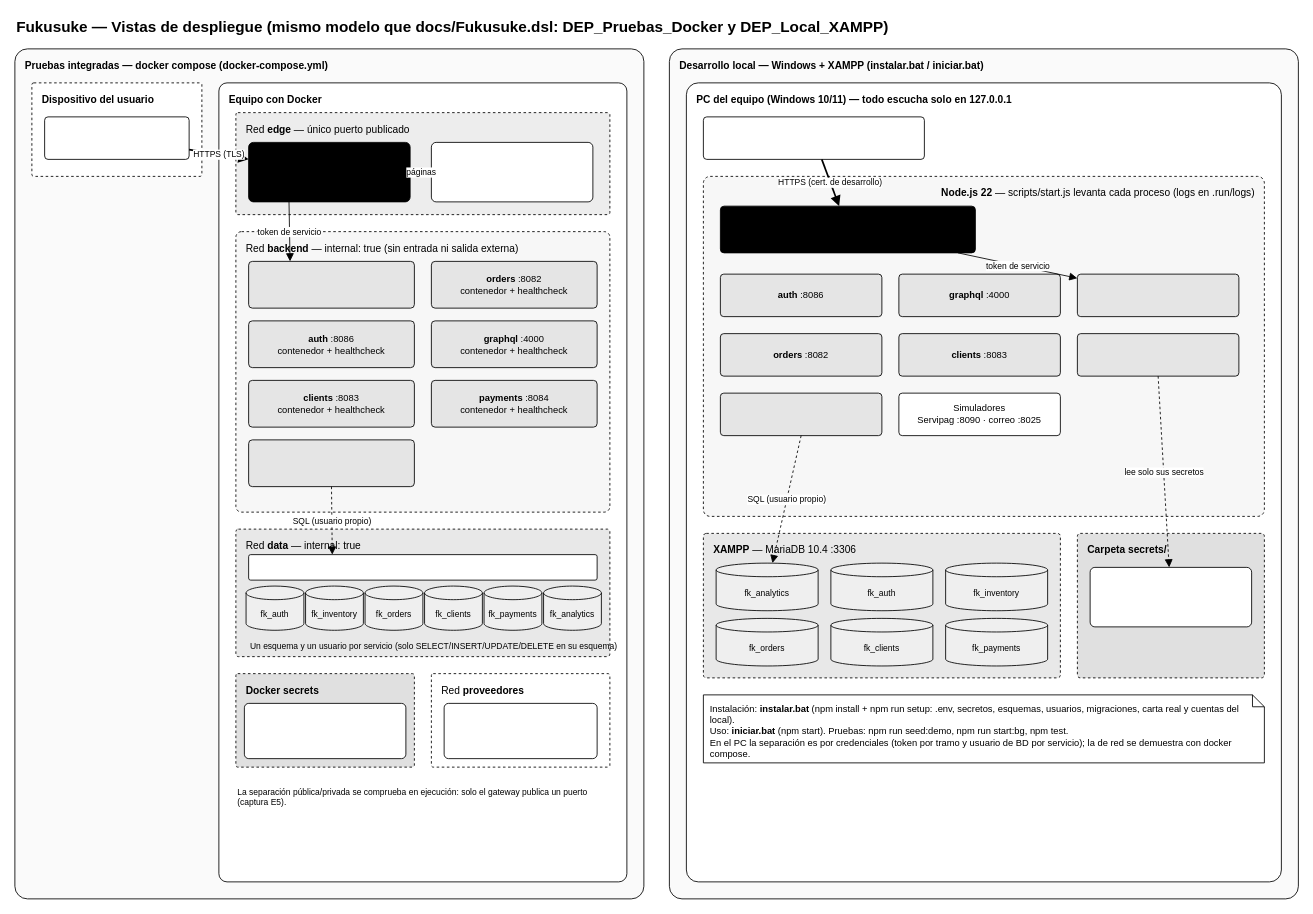
Some shapes in this 1313 by 914 pixel diagram are drawn without their labels. The shapes that lost their labels are listed below. From the top down, each one's centre as x and y in pixels, then its label:
At point 116,137: "Navegador web cookies HttpOnly".
At point 813,137: "Navegador (Chrome / Edge / Opera) https://localhost:8443".
At point 329,172: "gateway fukusuke/backend:1.0 puerto 443:8443".
At point 512,172: "frontend php:8.3-apache sin puerto propio".
At point 847,229: "gateway :8443 API /api/v1 + sirve la página v1.1 (web/)".
At point 331,284: "inventory :8081 contenedor + healthcheck".
At point 1158,295: "inventory :8081".
At point 1158,354: "payments :8084".
At point 801,414: "analytics :8085".
At point 331,463: "analytics :8085 contenedor + healthcheck".
At point 422,567: "mysql (mysql:8.0) · volumen mysql-data".
At point 1170,597: "SecretProvider file generada por npm run setup ignorada por git".
At point 325,731: "/run/secrets/<referencia> solo los de cada servicio (Vault + AppRole opcional)".
At point 520,731: "Simuladores: Servipag :8090 correo :8025".
